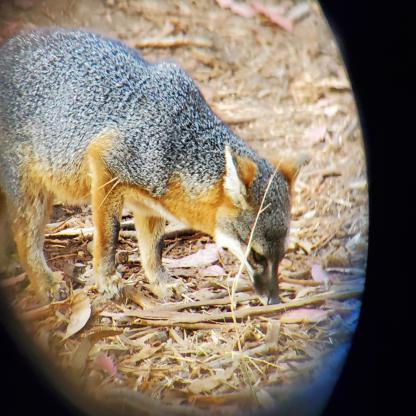zorro: (1, 24, 305, 325)
